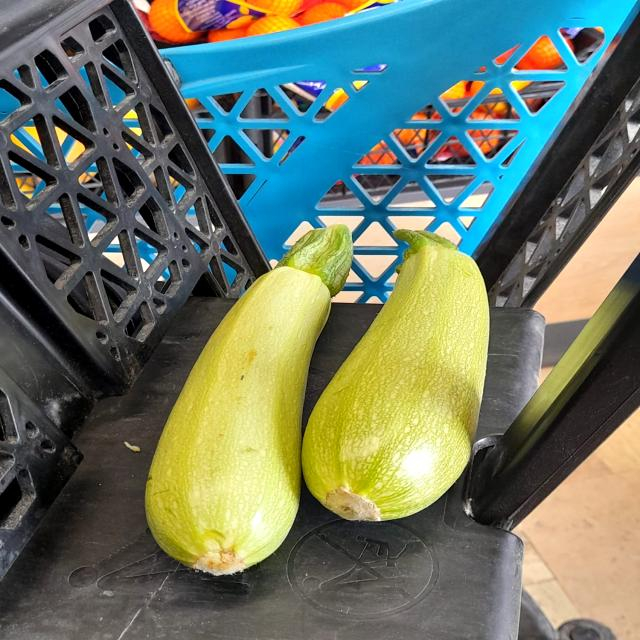zucchini: (138, 219, 368, 577), (297, 211, 509, 523)
